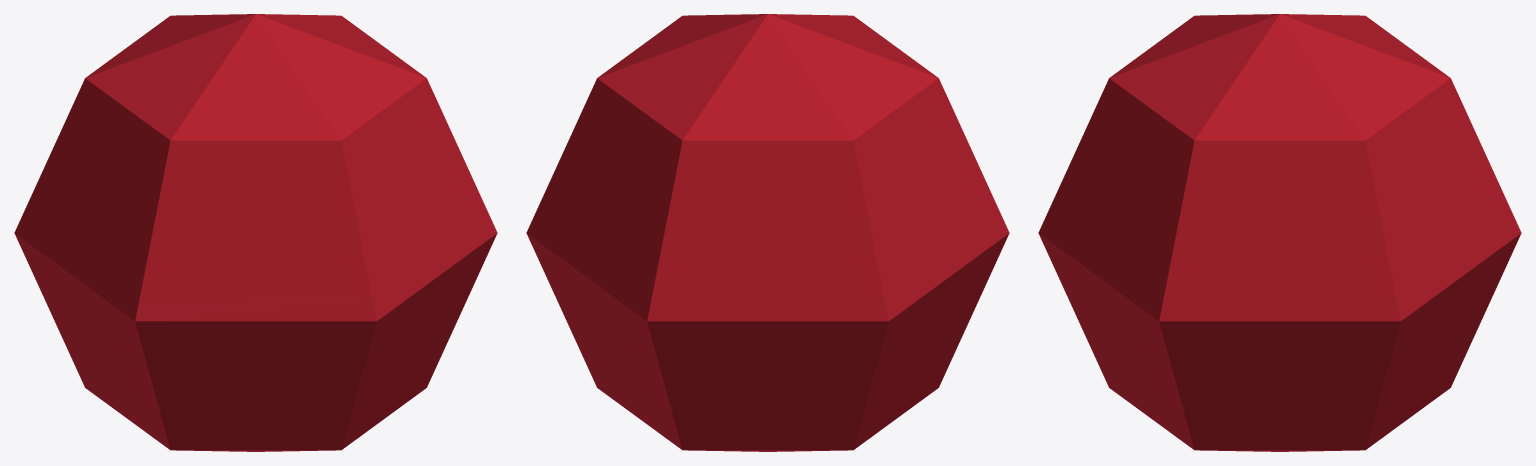
Rendered from Arrow.obj.
3 views of the same model, side by side, from view 1: azimuth 30°, elevation 25°; view 2: azimuth 150°, elevation 25°; view 3: azimuth 270°, elevation 25° (orthographic).
Parts seen in each view (by area): view 1: 球; view 2: 球; view 3: 球.
Boxes of the visible parts, x1,y1,x2,y2 form: 球: [14, 14, 497, 451]; 球: [526, 14, 1009, 451]; 球: [1038, 14, 1521, 451].
Bounding box in the file's own units: 0.6533 × 0.7544 × 0.7544.
1 material, 1 textured.
